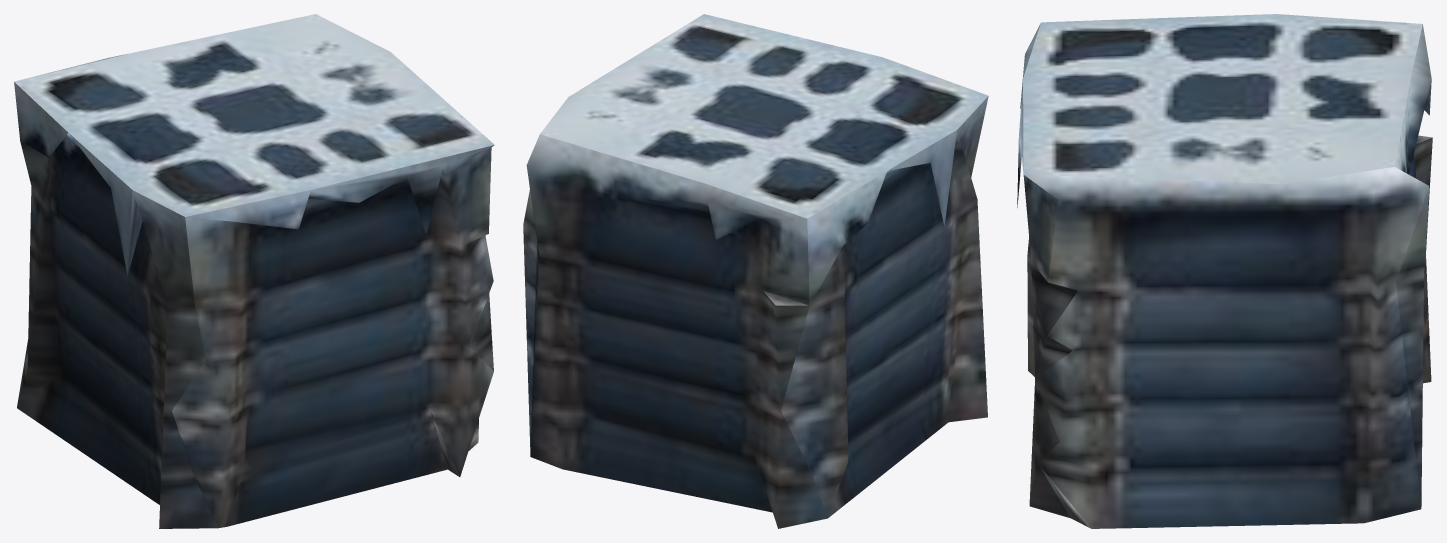
The model's file is b_givre_mur_3_lo.glb.
3 renders of one model, left to right at view 1: azimuth 30°, elevation 25°; view 2: azimuth 150°, elevation 25°; view 3: azimuth 270°, elevation 25°, orthographic. The views are drawn at different scales.
Parts seen in each view (by area): view 1: geometry_0; view 2: geometry_0; view 3: geometry_0.
Boxes of the visible parts, x1,y1,x2,y2 form: geometry_0: [14, 14, 494, 528]; geometry_0: [523, 14, 988, 528]; geometry_0: [1017, 14, 1432, 528].
Size of the model in its own units: 0.9904 by 0.9713 by 1.
Materials: 1 (1 with a texture image).
